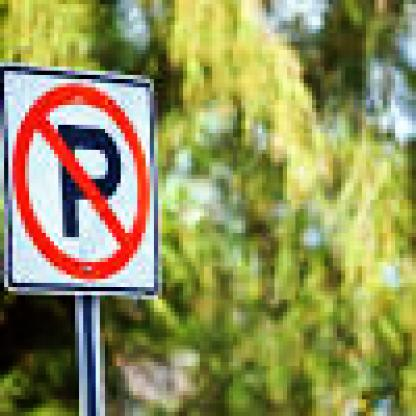No parking: (7, 73, 158, 286)
